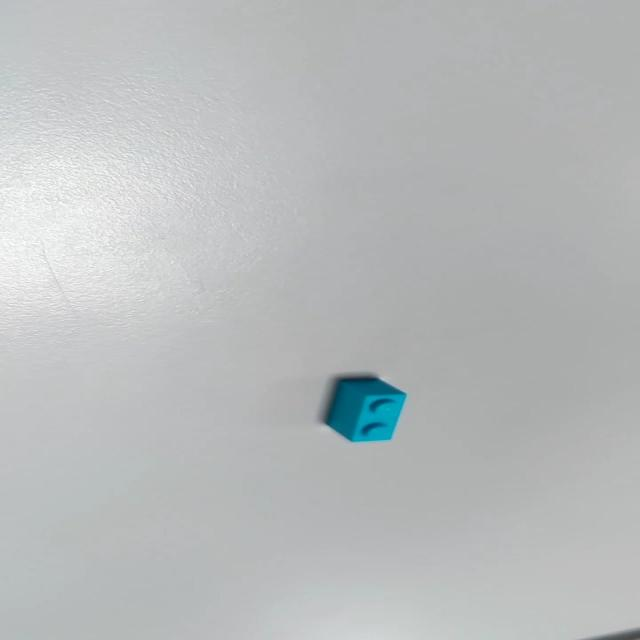C2x1x1: (323, 375, 407, 443)
